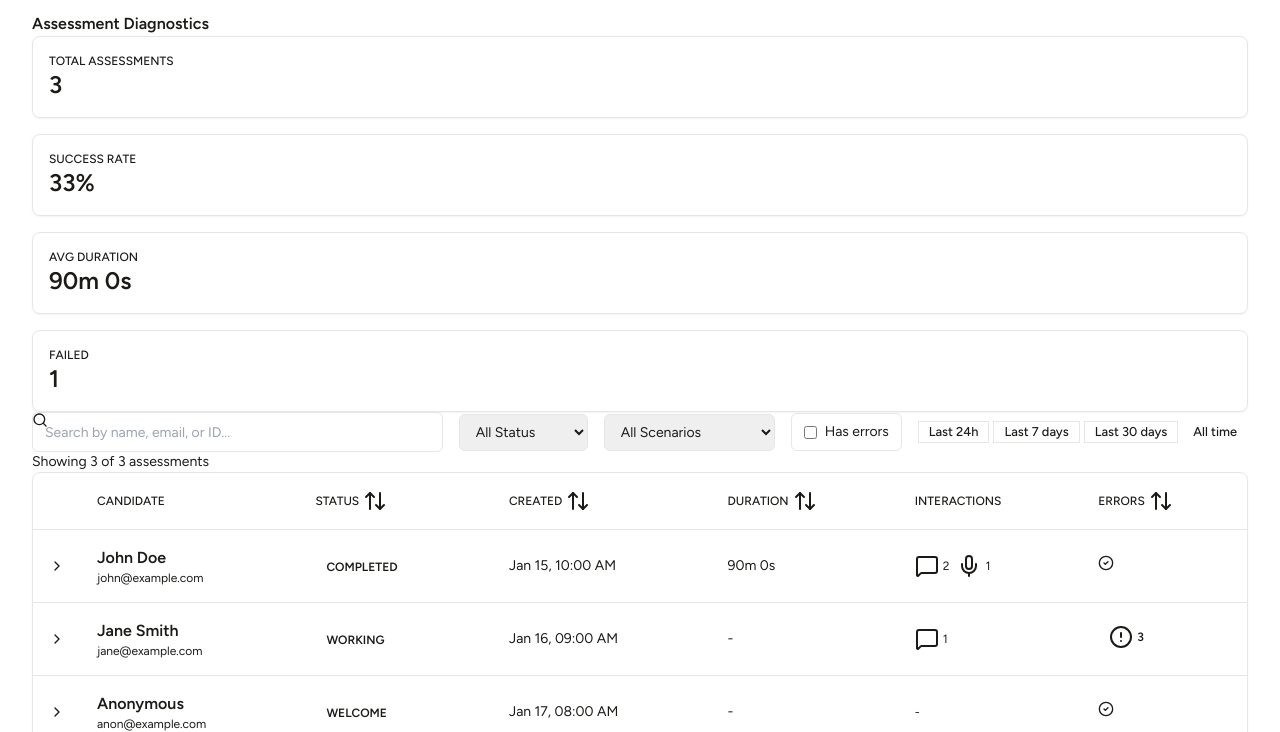
Scenario: AssessmentsClient › Search functionality › clears search when X button is clicked
Step 1. Type "John" into the field with test id "search-input" → (237, 432), box [32,412,443,452]
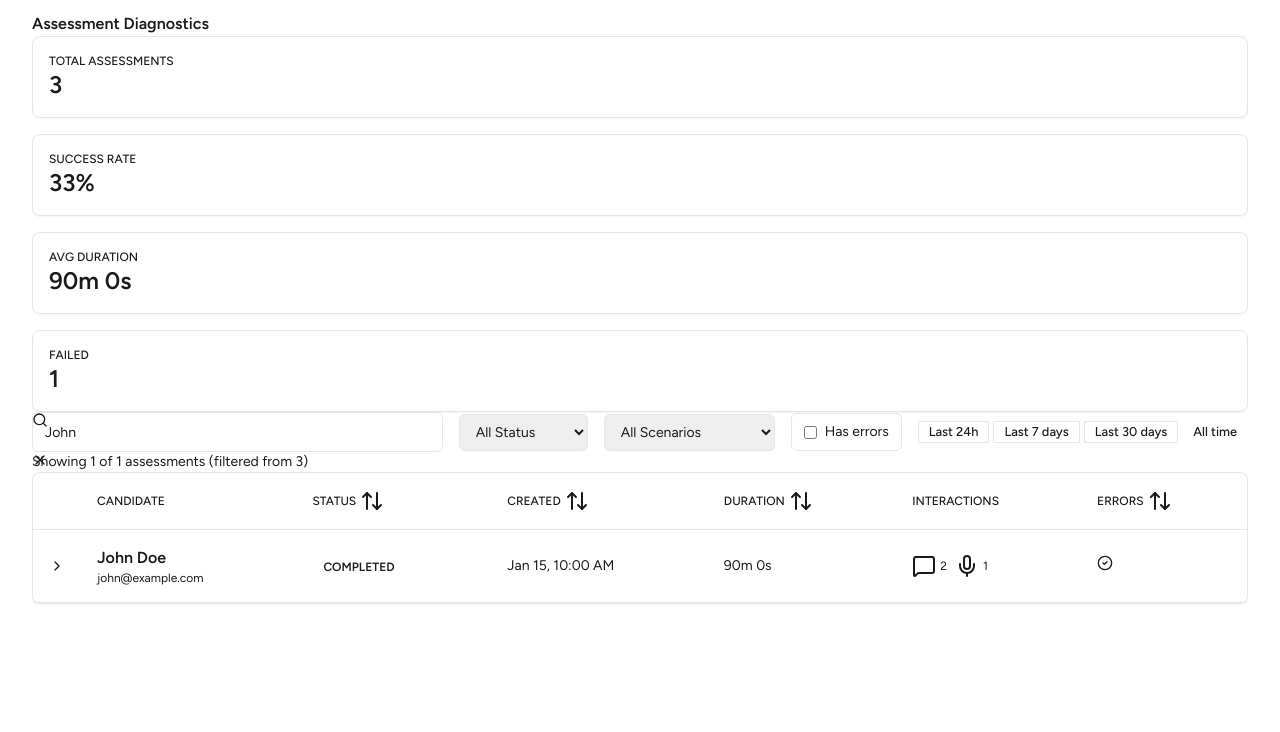
Step 2. Click the button named "Clear search" → click(40, 460), box [32,452,48,468]
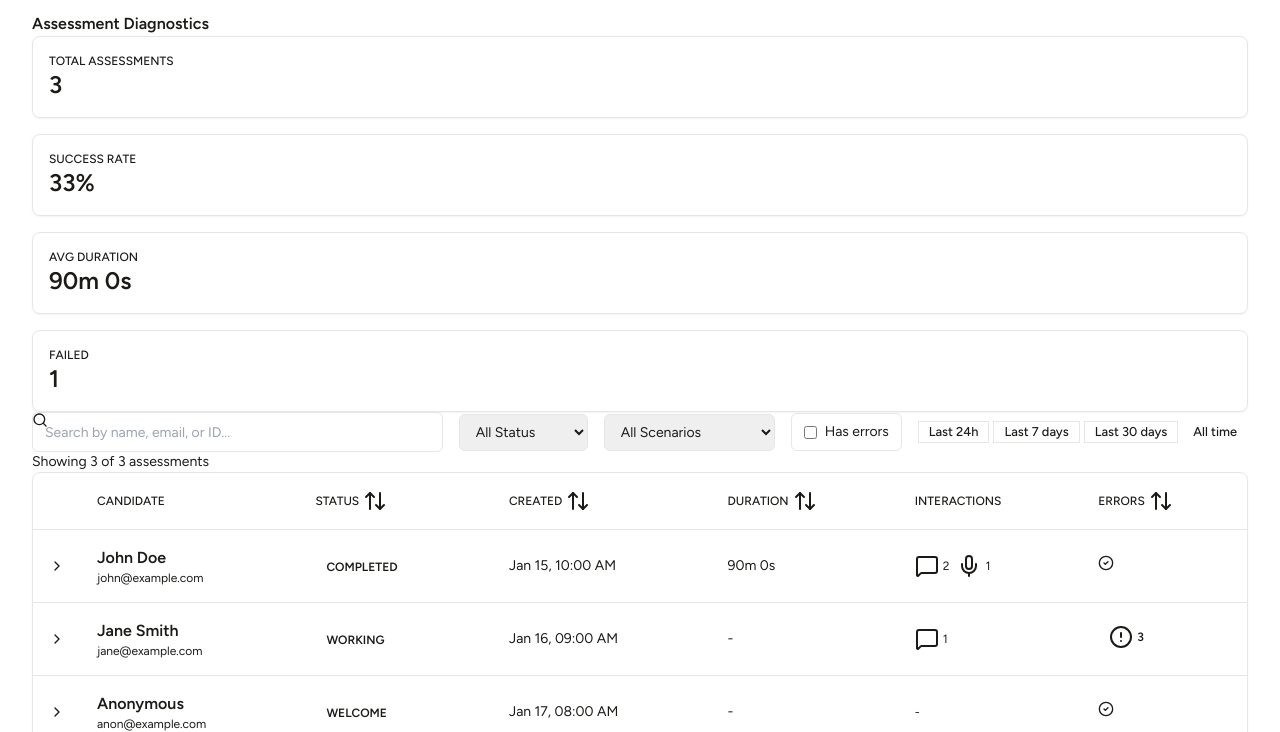
Expected: the field with test id "search-input" is empty, [32,412,443,452]
Expected: the text "Jane Smith" is shown, [97,621,179,640]
Expected: the text "Anonymous" is shown, [97,694,184,713]
